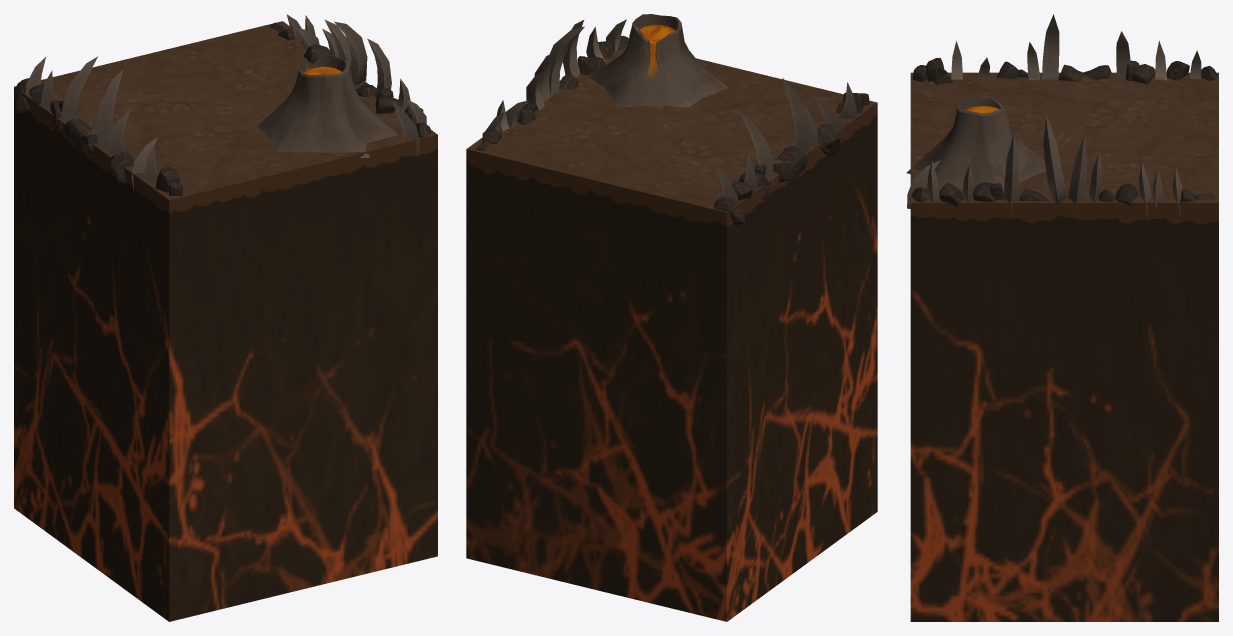
File: Plataforma Volcan Izqu-Med.fbx
3 views of the same model, side by side, from view 1: azimuth 30°, elevation 25°; view 2: azimuth 150°, elevation 25°; view 3: azimuth 270°, elevation 25° (orthographic). The views are drawn at different scales.
Visible parts, largest first — view 1: Plataforma 1.006, Cone.016, Cone.004, Cone.014, Cone.001, Cone.008; view 2: Plataforma 1.006, Cone.016, Cone.004, Cone.014, Cone.001; view 3: Plataforma 1.006, Cone.016, Cone.014, Cone.004, Cone.011, Cone.008, Cone.001, Cone.012.
Part boxes in pixels (box(x1,y1,x2,y2)): Plataforma 1.006: box(14, 21, 437, 621); Cone.016: box(257, 54, 397, 157); Cone.004: box(96, 70, 123, 148); Cone.014: box(334, 21, 367, 85); Cone.001: box(60, 56, 97, 128); Cone.008: box(367, 38, 391, 98); Plataforma 1.006: box(466, 48, 877, 621); Cone.016: box(589, 14, 727, 107); Cone.004: box(782, 78, 811, 152); Cone.014: box(549, 26, 584, 96); Cone.001: box(741, 113, 773, 185); Plataforma 1.006: box(910, 72, 1218, 621); Cone.016: box(906, 97, 1045, 193); Cone.014: box(1043, 115, 1066, 205); Cone.004: box(1042, 14, 1059, 79); Cone.011: box(1067, 134, 1087, 214); Cone.008: box(1003, 132, 1018, 212); Cone.001: box(1116, 31, 1130, 78); Cone.012: box(1089, 152, 1101, 202).
Size of the model in its own units: 1058 by 1756 by 1015.
